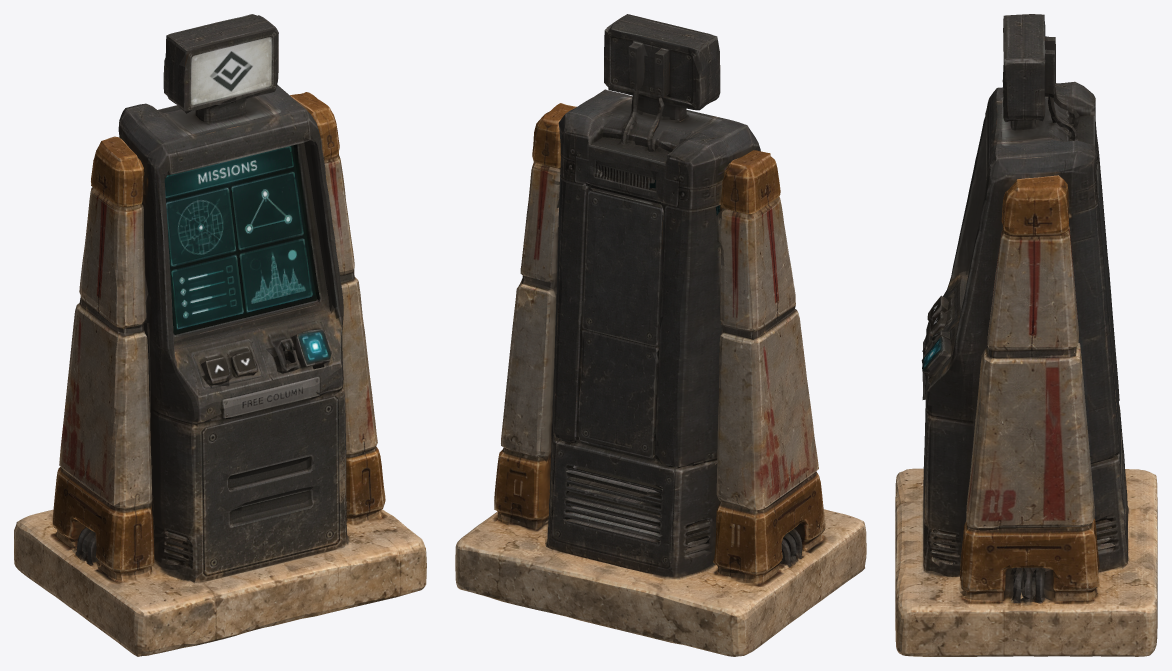
The model's file is mission-terminal.fbx.
3 views of the same model, side by side, from view 1: azimuth 30°, elevation 25°; view 2: azimuth 150°, elevation 25°; view 3: azimuth 270°, elevation 25° (orthographic).
Parts seen in each view (by area): view 1: input; view 2: input; view 3: input.
Part boxes in pixels (box(x1,y1,x2,y2)): input: box(14, 14, 426, 656); input: box(455, 14, 866, 656); input: box(895, 14, 1157, 656).
Bounding box in the file's own units: 89.2 × 160 × 68.97.
Materials: 1 (1 with a texture image).
